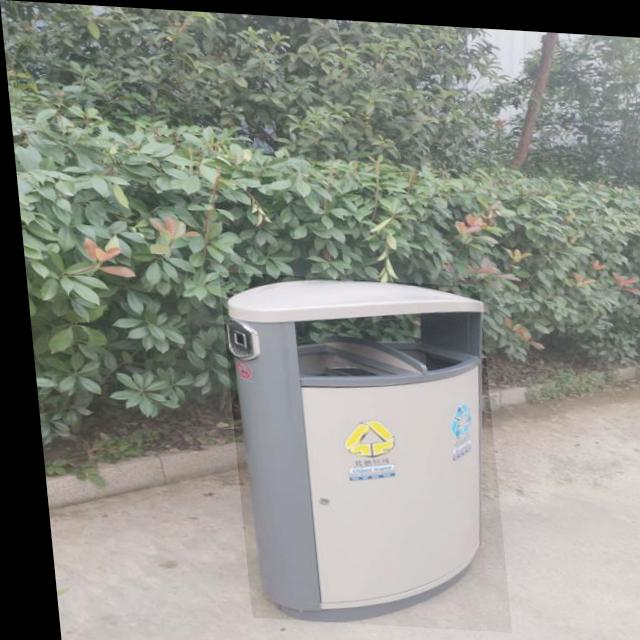garbage_bin: (213, 269, 500, 627)
